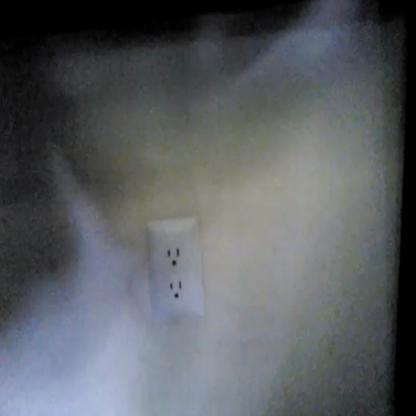OUTLET: (146, 216, 204, 324)
